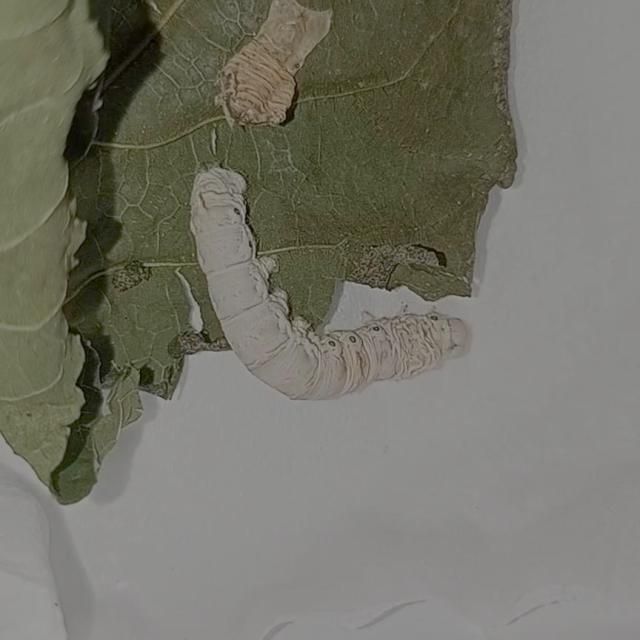Healthy: (154, 141, 486, 410)
